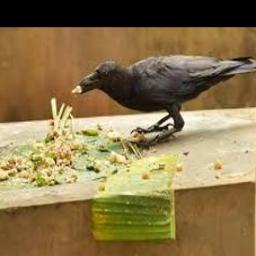Crow: (76, 54, 256, 139)
